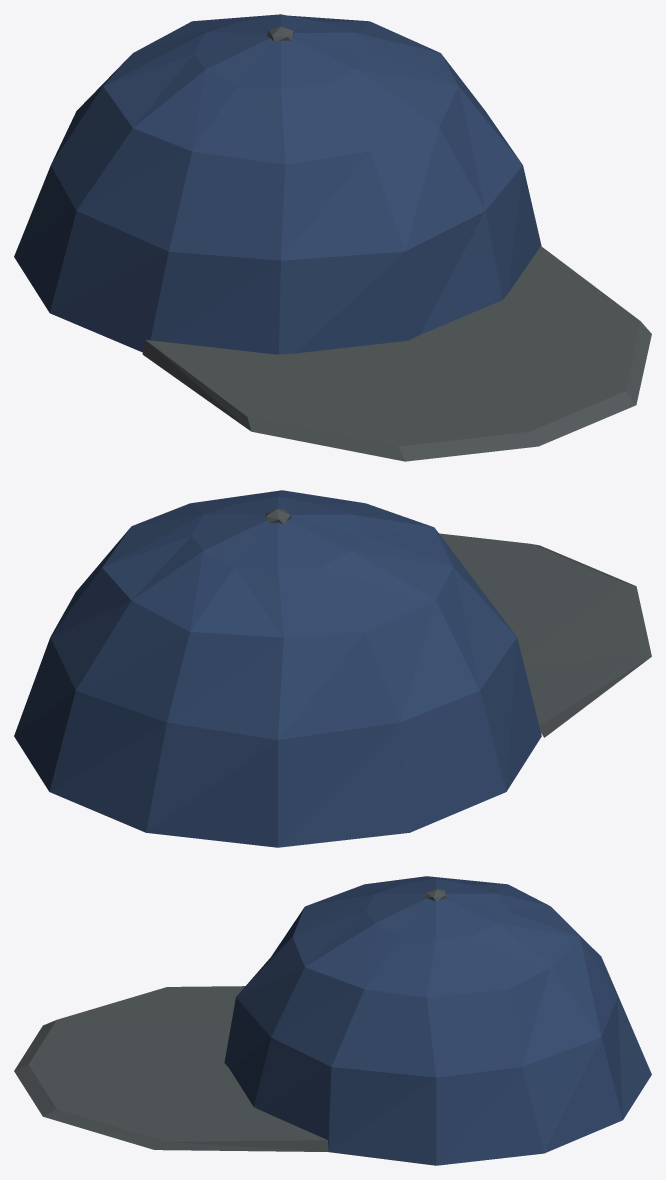
Rendered from Baseball_cap_blue.fbx.
3 renders of one model, top to bottom at view 1: azimuth 30°, elevation 25°; view 2: azimuth 150°, elevation 25°; view 3: azimuth 270°, elevation 25°, orthographic. The views are drawn at different scales.
Visible parts, largest first — view 1: Baseball_cap_blue; view 2: Baseball_cap_blue; view 3: Baseball_cap_blue.
Part boxes in pixels (<box>): Baseball_cap_blue: <box>14,14,651,461</box>; Baseball_cap_blue: <box>14,490,651,847</box>; Baseball_cap_blue: <box>14,876,651,1165</box>.
Size of the model in its own units: 16.97 by 8.06 by 25.1.
